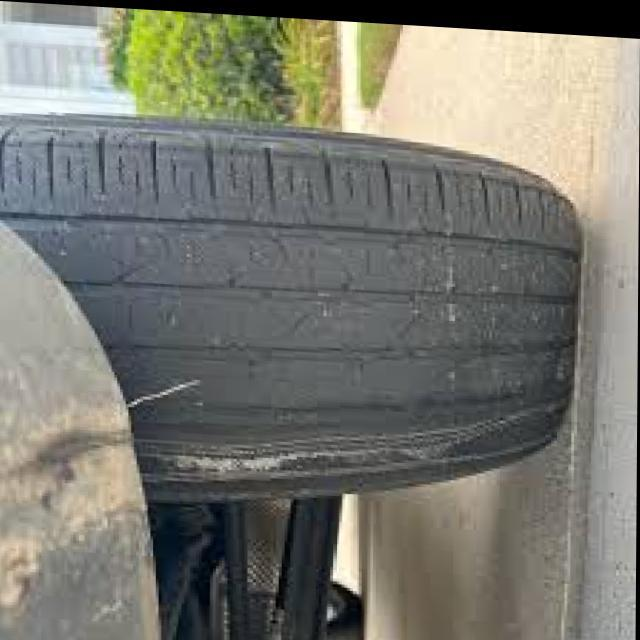Flat spots: (134, 217, 540, 445)
